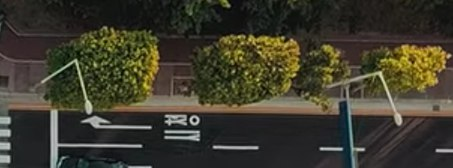Top_Street_Light: (84, 101, 97, 117), (394, 113, 404, 129)
